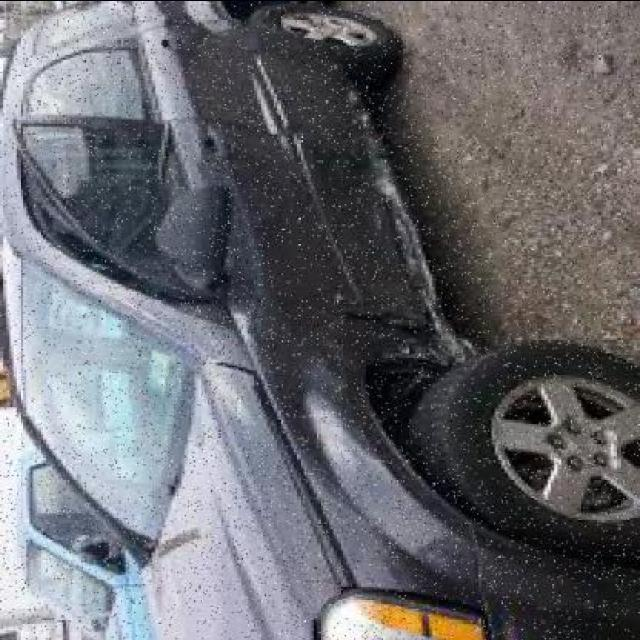RunningBoard-Dent: (393, 214, 486, 398), (357, 140, 446, 248), (320, 51, 393, 157)
